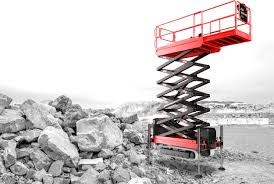Scissor Lift: (145, 1, 254, 180)
